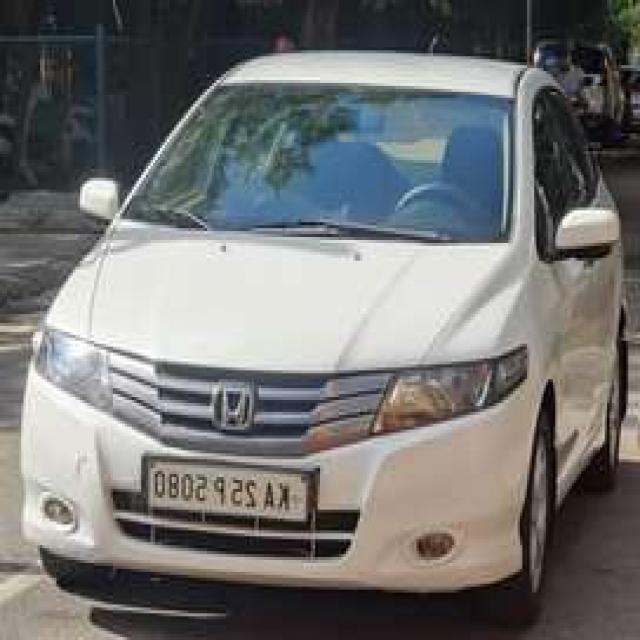license_plate: (137, 449, 322, 532)
